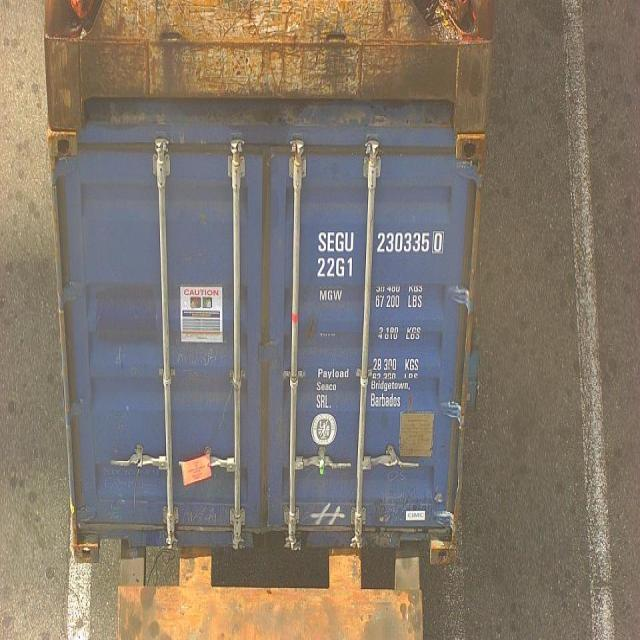ISO: (316, 254, 356, 279)
container_number: (316, 233, 444, 256)
